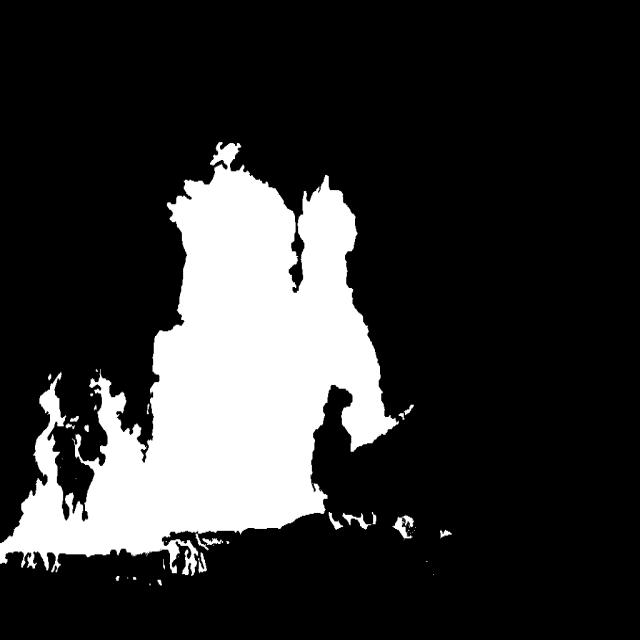fire: (23, 175, 431, 565)
